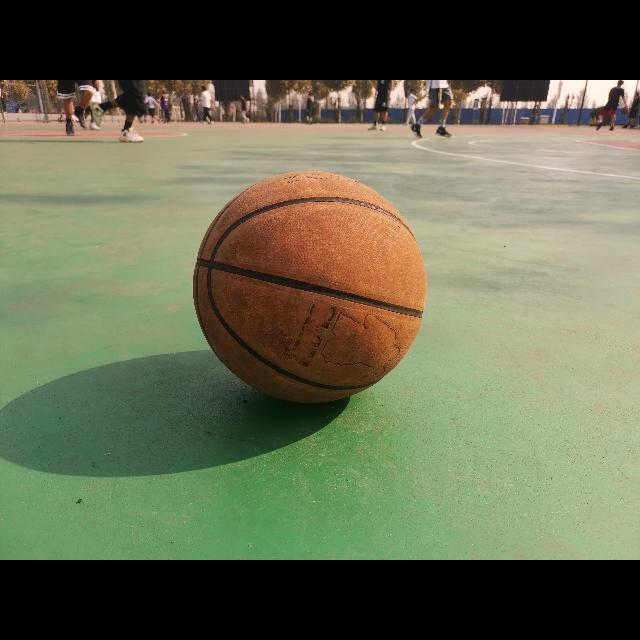basketball: (193, 173, 424, 403)
